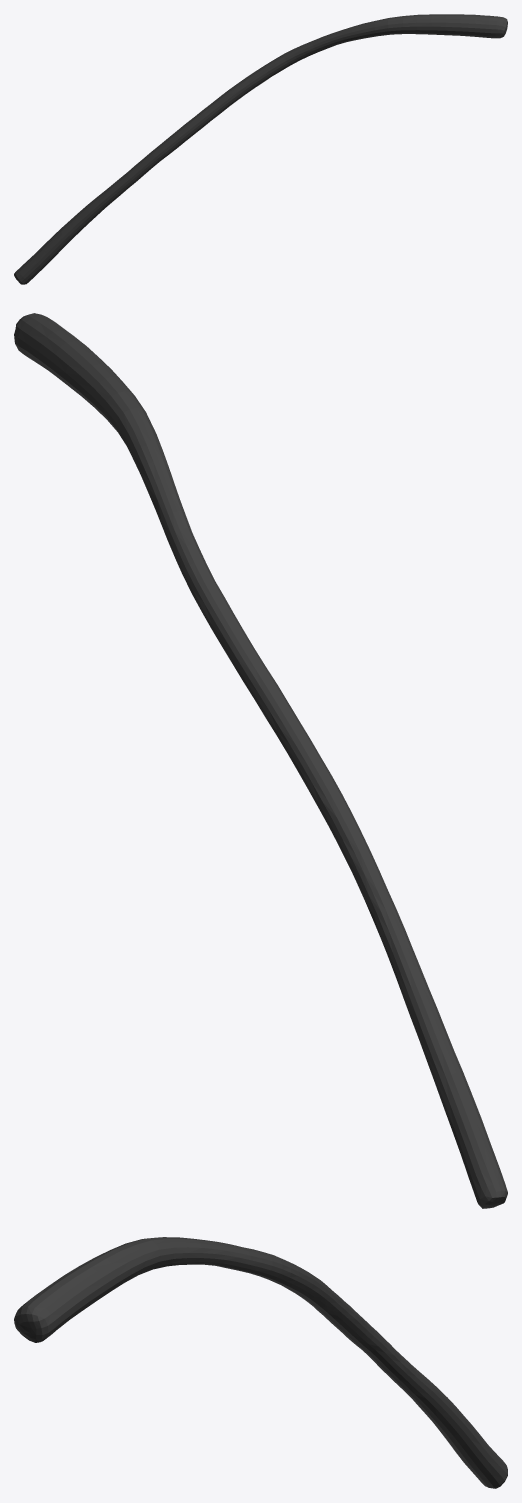
File: NERVE_Major_petrosal_L.glb
3 views of the same model, one above another, from view 1: azimuth 30°, elevation 25°; view 2: azimuth 150°, elevation 25°; view 3: azimuth 270°, elevation 25° (orthographic). The views are drawn at different scales.
Parts seen in each view (by area): view 1: NERVE_Major_petrosal_L; view 2: NERVE_Major_petrosal_L; view 3: NERVE_Major_petrosal_L.
Part boxes in pixels (x1=…): NERVE_Major_petrosal_L: x1=14, y1=14, x2=507, y2=284; NERVE_Major_petrosal_L: x1=14, y1=313, x2=507, y2=1208; NERVE_Major_petrosal_L: x1=14, y1=1237, x2=507, y2=1488.
Size of the model in its own units: 1.59 by 1.12 by 0.9979.
1 material, 1 textured.
